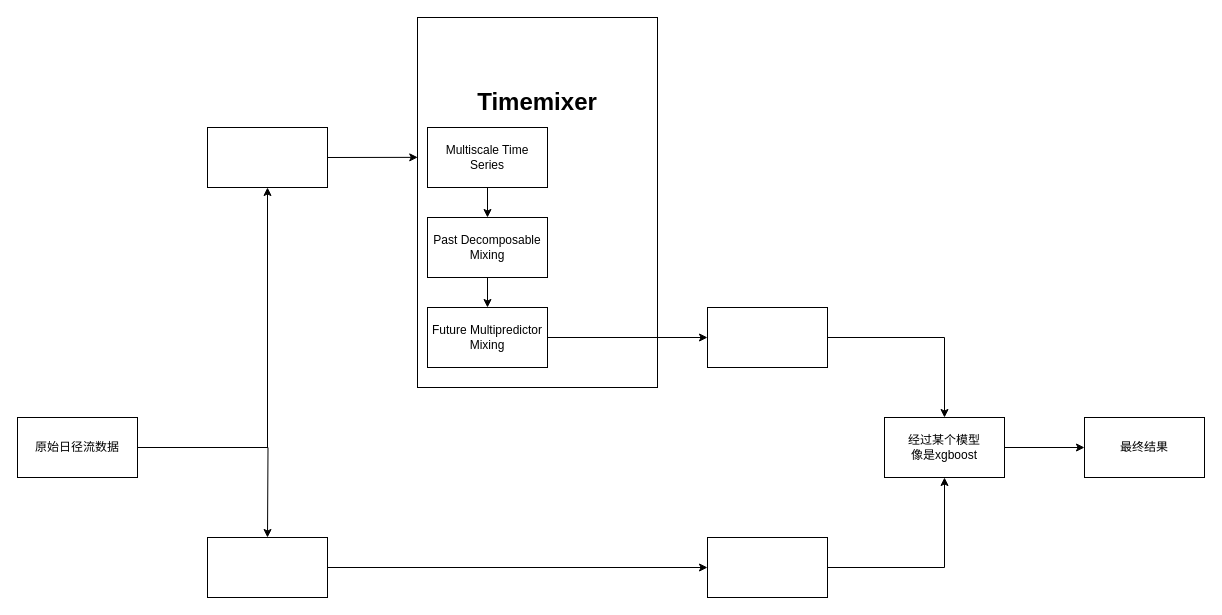
Image size: 1222x615. Some labels were removed from this diagram. The centre of each missing label's shape, as x and y in pixels:
timemixer的预测结果: the point at 767,337
新安江模型: the point at 267,567
新安江的预测结果: the point at 767,567
添加某种处理机制去选出更相关的因素: the point at 267,157
